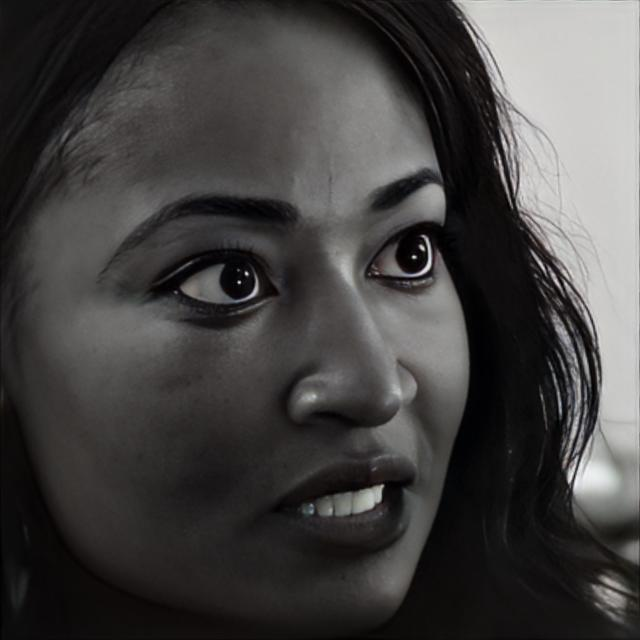surprise: (2, 2, 470, 640)
